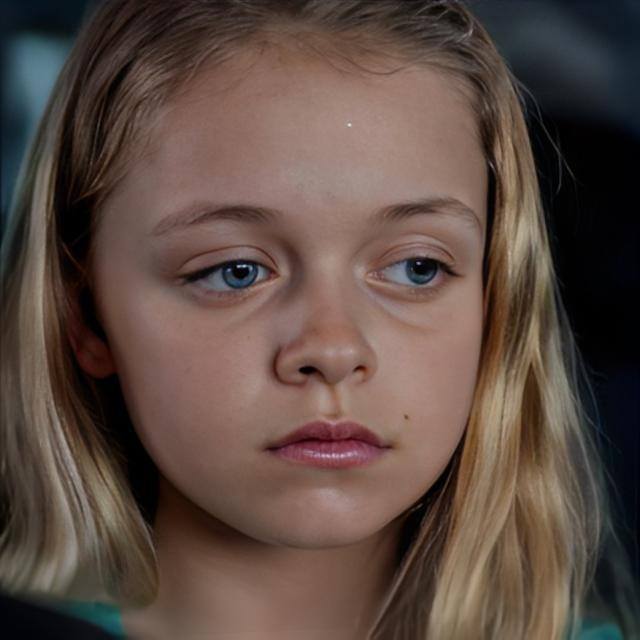sad: (87, 46, 489, 552)
